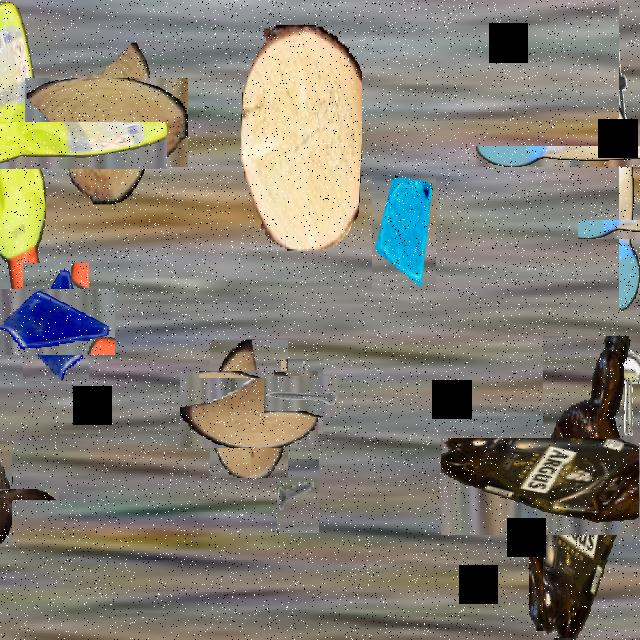glass: (10, 276, 102, 368), (372, 176, 436, 290)
metal: (529, 532, 585, 631), (273, 367, 331, 426), (277, 459, 319, 533), (599, 198, 640, 260)
plastic: (491, 387, 640, 586), (0, 62, 107, 229), (547, 73, 640, 239)
wood: (241, 25, 361, 249), (44, 59, 170, 186), (195, 355, 303, 463), (0, 464, 35, 523)
